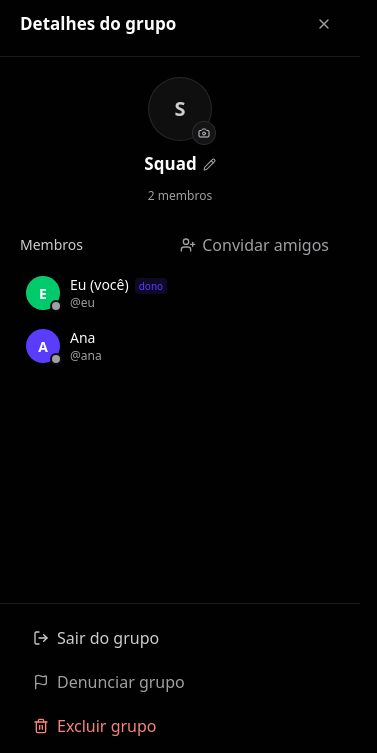
Test case: GroupDetailsPanel — invitations › owner invites friends (who are not yet members) and does not add them directly
Step 1. Click the button "Convidar amigos" → (255, 245), box [169,229,340,261]
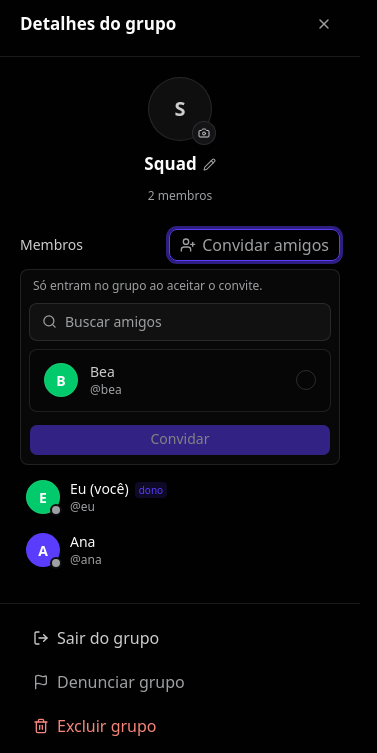
Check: the button "B Bea @bea" is shown
Step 2. Click the button "B Bea @bea" → (61, 380), box [34,354,326,407]
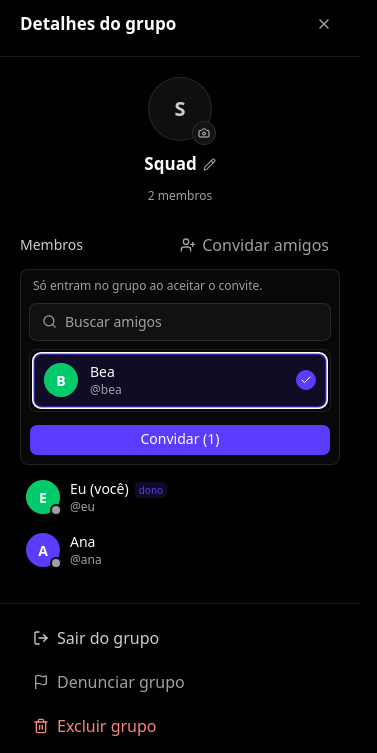
Step 3. Click the button "Convidar (1)" → (180, 440), box [29,424,331,456]
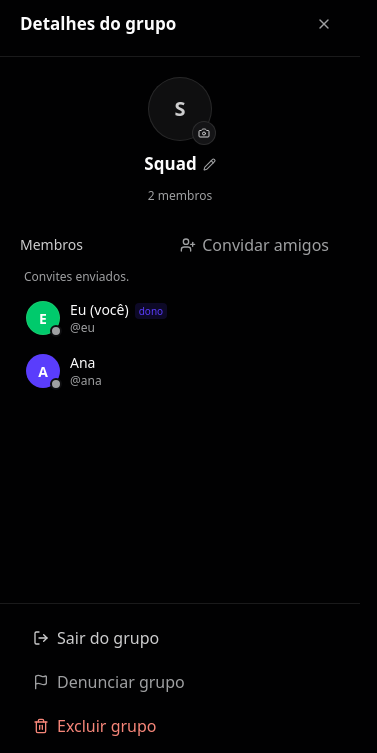
Check: the text "Convites enviados." is shown, box [24,268,129,285]
